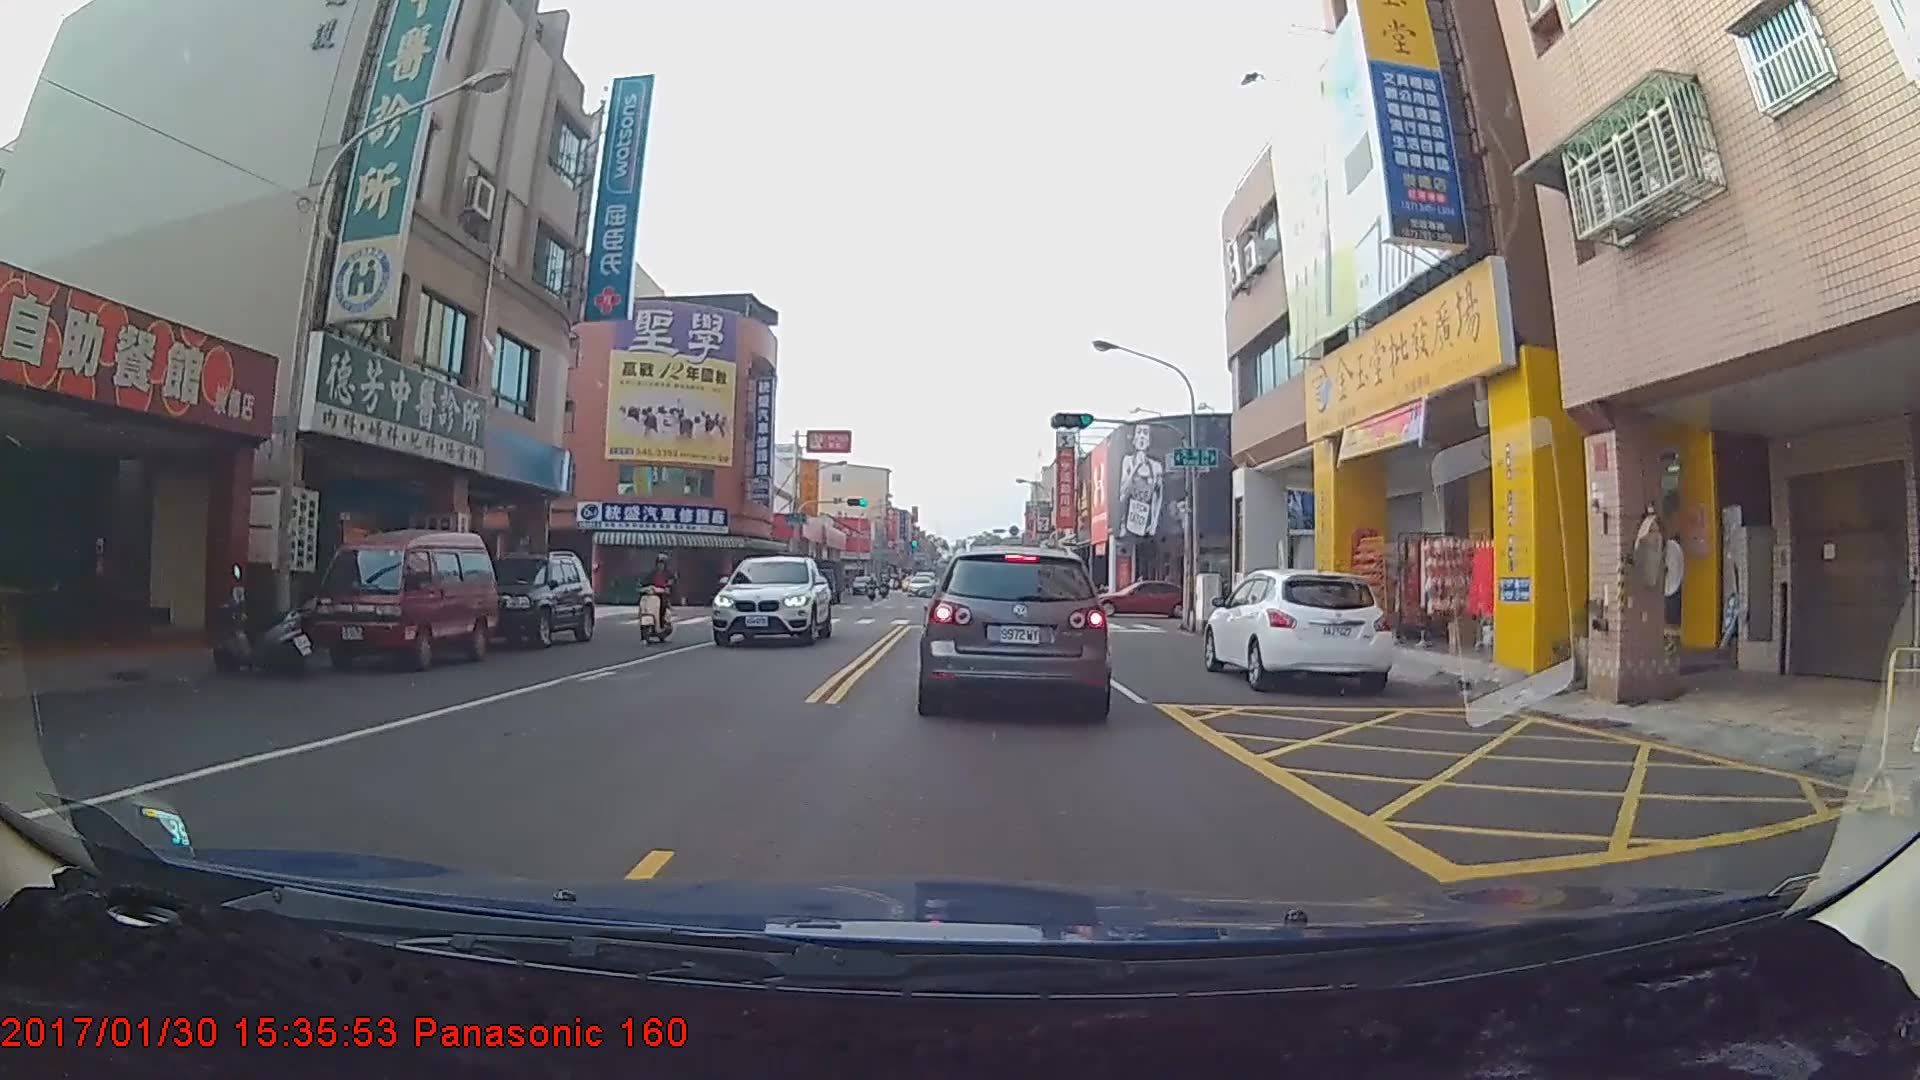rider: (632, 552, 682, 648)
vehicle: (921, 541, 1110, 716), (308, 535, 495, 672), (1205, 565, 1391, 692), (456, 549, 596, 649), (716, 553, 833, 650), (1087, 579, 1195, 616), (906, 576, 934, 597)
